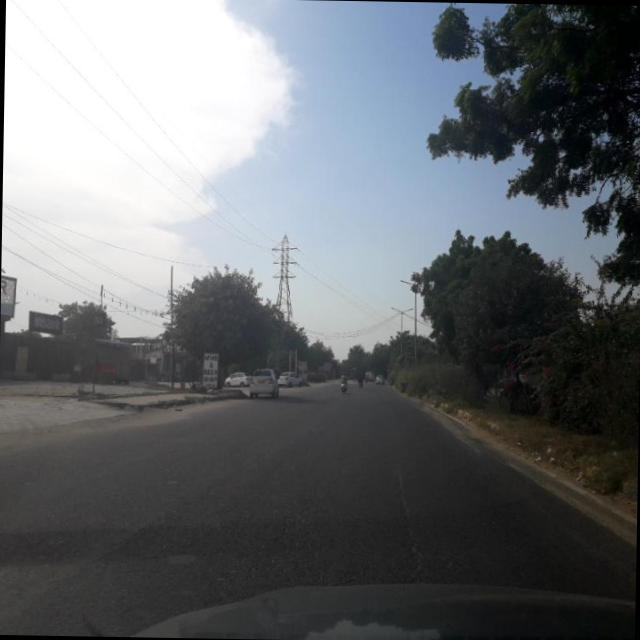pothole: (378, 425, 434, 561)
